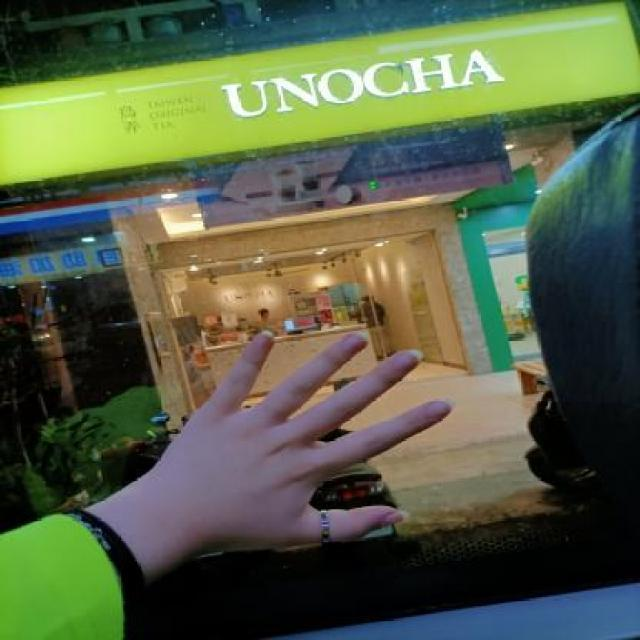hand: (130, 329, 461, 559)
